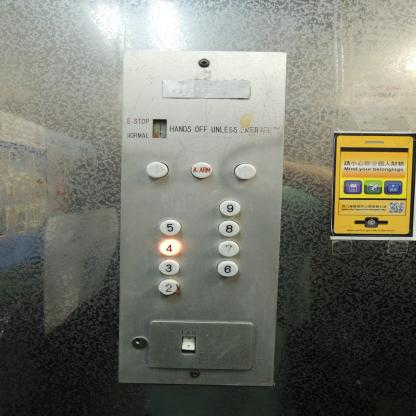2: (158, 278, 181, 296)
3: (158, 258, 181, 276)
4: (158, 238, 182, 257)
5: (158, 218, 183, 236)
6: (216, 260, 239, 277)
7: (218, 240, 239, 256)
8: (218, 219, 240, 237)
9: (218, 199, 241, 217)
close: (234, 162, 257, 181)
keyhole: (131, 336, 149, 352)
open: (145, 161, 169, 179)
switch: (180, 329, 196, 356)
text_alarm bell: (190, 162, 212, 180)
